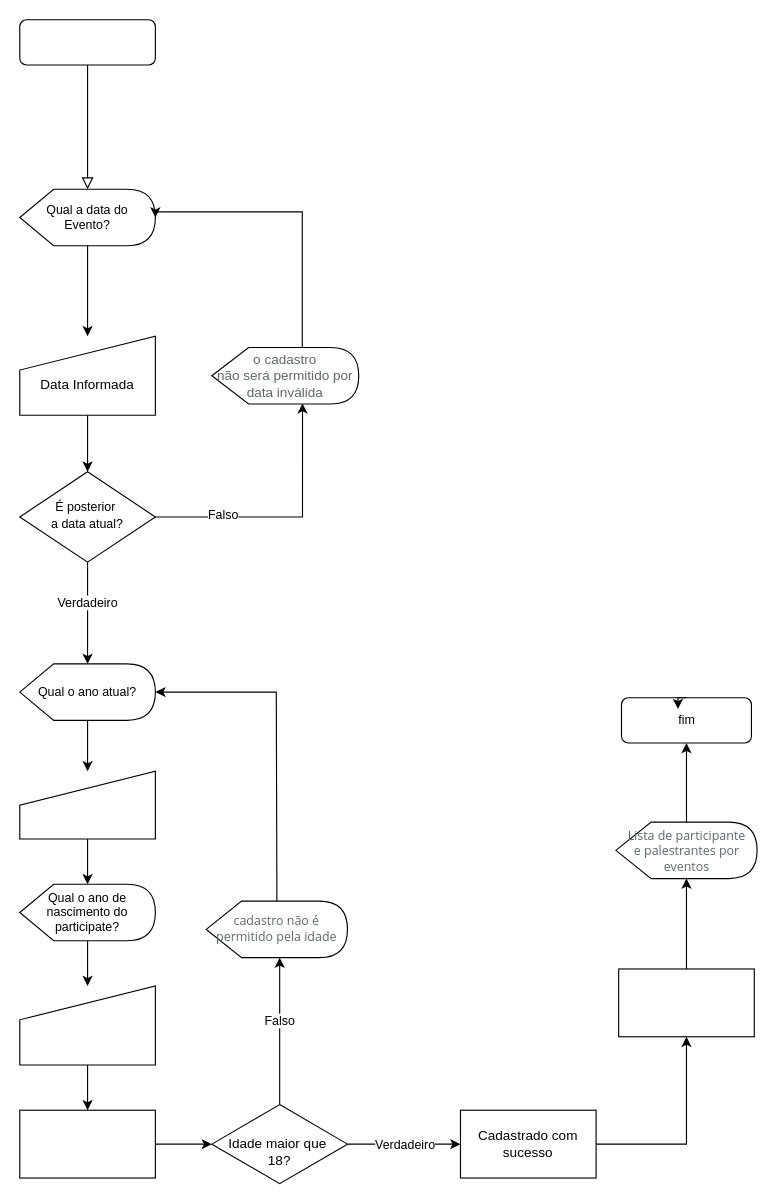
The diagram is 777 pixels wide and 1203 high, and some of its shapes have lost their labels. Here are the shapes that lost their labels. From the top down, the box of each, then its label:
(19, 19, 155, 65): Inicio
(19, 770, 155, 839): ano Atual
(618, 968, 754, 1037): Mostrar lista de eventos e participantes
(19, 985, 155, 1065): Ano de nascimento do participante
(19, 1109, 155, 1178): Idade = Ano Atual - Ano Nascimento
